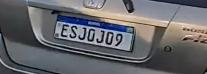Placa_mercosul_carro: (52, 15, 135, 52)
